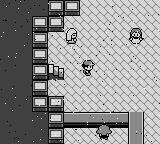main: (82, 60, 94, 76)
no-caminable: (1, 0, 49, 143), (32, 0, 80, 143), (64, 113, 128, 128), (129, 112, 144, 143)
npc: (96, 125, 112, 140), (129, 28, 143, 44), (66, 28, 78, 44)
puerta: (48, 63, 64, 79)
